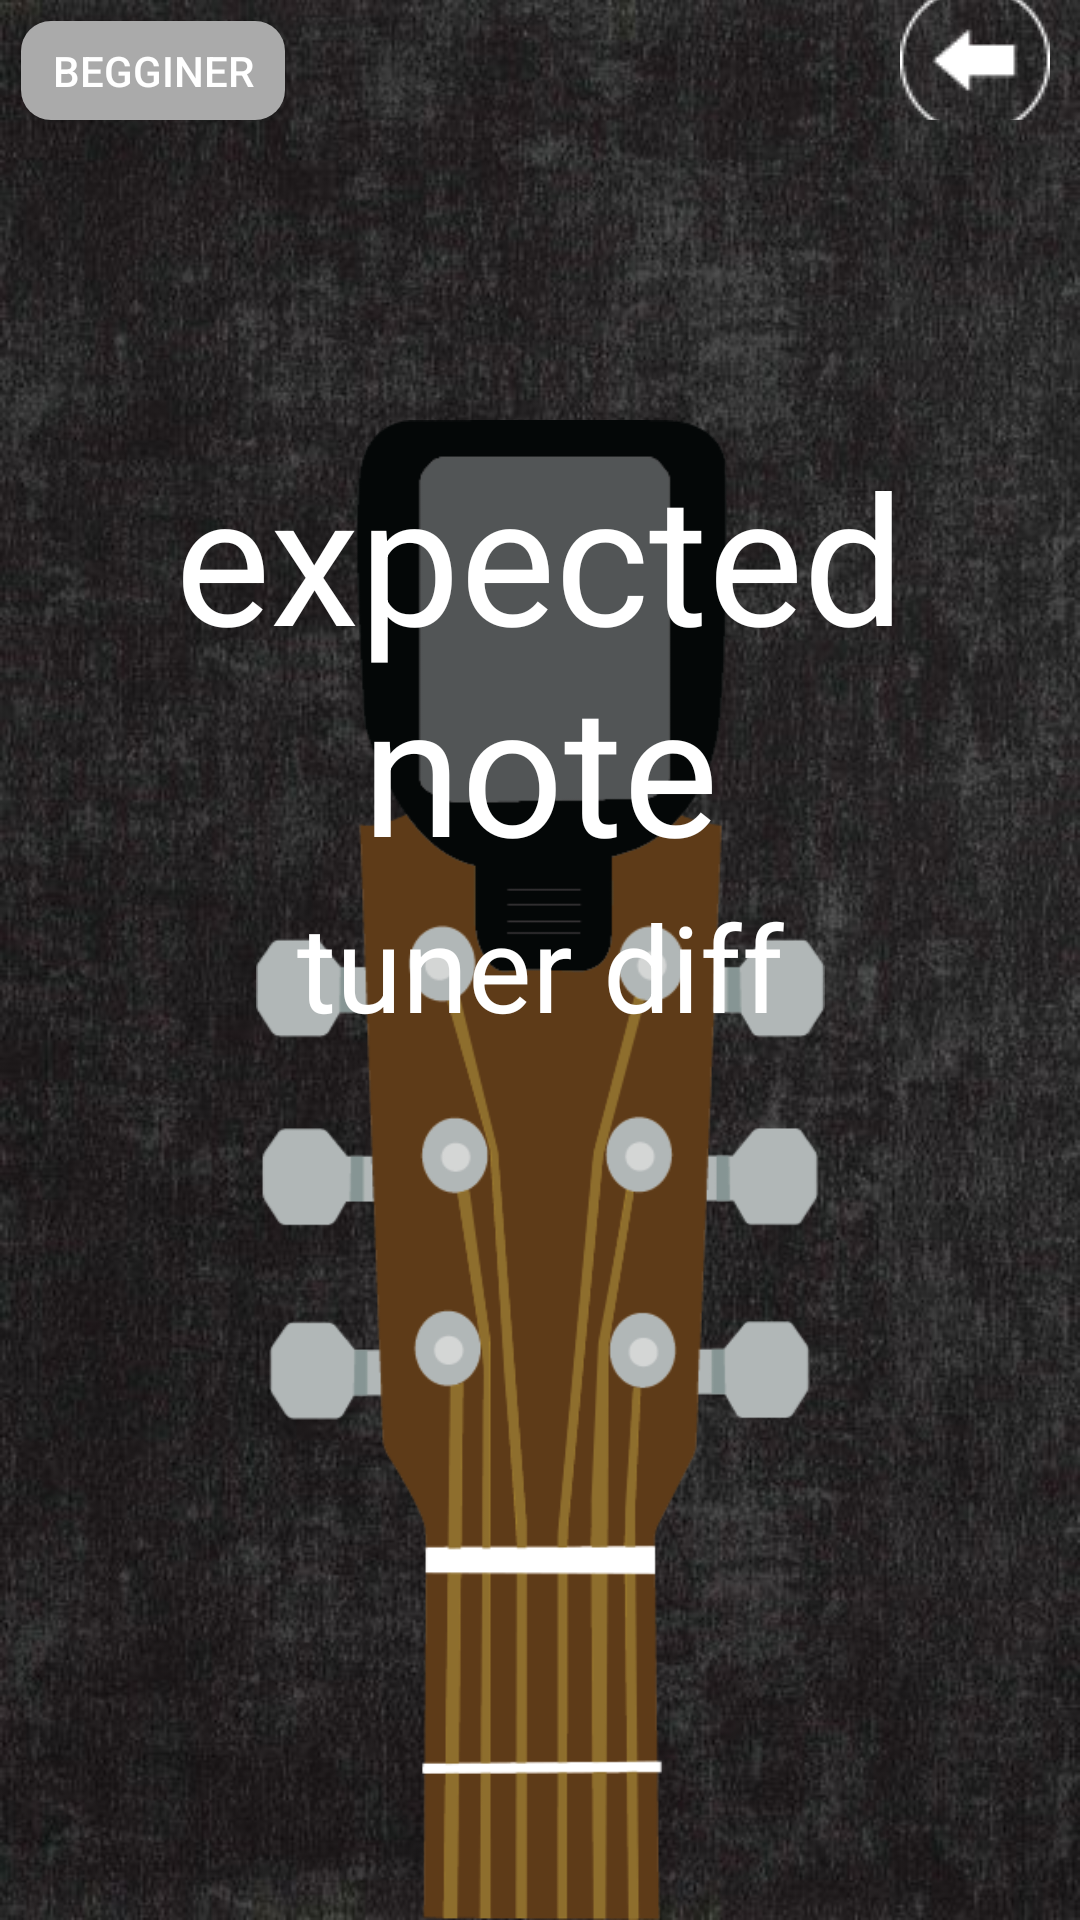

Named icons in this screenshot (1080px x 1920px) and their centers, (x,y):
backiconwhite: (975,60)
